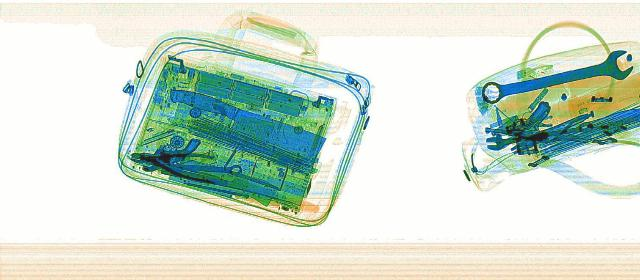Gun: (482, 97, 558, 137), (125, 137, 205, 163)
Knife: (134, 85, 352, 161)
Pliers: (125, 146, 233, 182)
Wrench: (468, 57, 638, 102), (476, 119, 600, 149), (140, 157, 246, 174)
